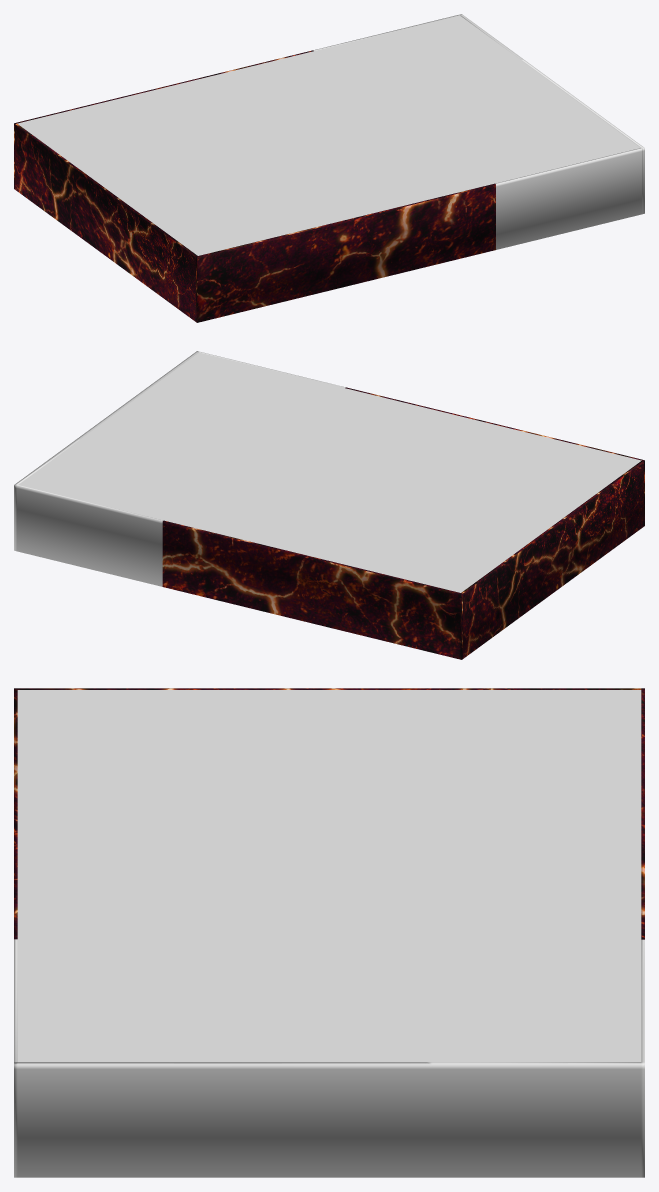
The model's file is Walls.fbx.
3 views of the same model, one above another, from view 1: azimuth 30°, elevation 25°; view 2: azimuth 150°, elevation 25°; view 3: azimuth 270°, elevation 25° (orthographic). The views are drawn at different scales.
Visible parts, largest first — view 1: Walls, Walls.006, Walls.043, Walls.005, Walls.004; view 2: Walls, Walls.004, Walls.043, Walls.006, Walls.005; view 3: Walls, Walls.005, Walls.004, Walls.006, Walls.043.
Part boxes in pixels (<box>): Walls: <box>17,15,640,255</box>; Walls.006: <box>196,148,641,322</box>; Walls.043: <box>15,123,197,321</box>; Walls.005: <box>460,15,644,214</box>; Walls.004: <box>14,14,462,189</box>; Walls: <box>18,352,641,592</box>; Walls.004: <box>14,484,462,659</box>; Walls.043: <box>461,460,643,658</box>; Walls.006: <box>199,352,644,526</box>; Walls.005: <box>15,351,199,484</box>; Walls: <box>17,690,641,1062</box>; Walls.005: <box>14,1062,641,1177</box>; Walls.004: <box>641,688,644,1177</box>; Walls.006: <box>14,688,17,1062</box>; Walls.043: <box>17,688,641,689</box>.
Bounding box in the file's own units: 4459 × 624 × 3158.
